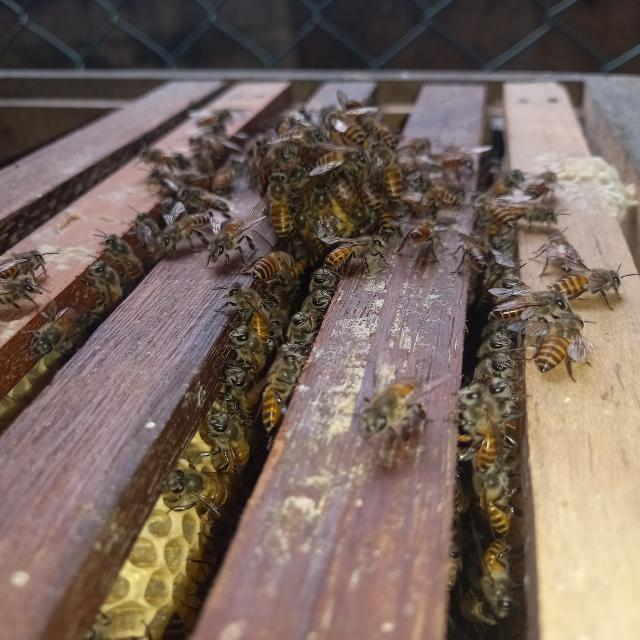honeybee: (532, 308, 593, 402), (472, 538, 528, 640), (363, 365, 434, 443), (195, 401, 248, 486), (154, 459, 220, 525), (457, 376, 504, 463), (472, 457, 523, 535), (552, 261, 634, 308), (146, 207, 217, 259), (258, 356, 304, 436), (226, 283, 278, 351), (97, 233, 153, 287), (326, 170, 376, 230), (198, 216, 256, 266), (29, 307, 84, 356), (78, 259, 124, 314), (238, 244, 300, 282), (228, 318, 266, 376), (398, 215, 452, 255), (410, 172, 470, 208), (538, 225, 590, 266), (465, 185, 516, 226), (0, 242, 53, 280), (288, 201, 326, 254), (0, 274, 47, 316), (263, 174, 296, 232), (332, 235, 391, 266), (176, 180, 229, 214), (348, 156, 381, 210), (317, 142, 376, 172), (372, 141, 406, 192), (326, 100, 365, 144), (477, 163, 524, 199), (522, 159, 564, 199), (183, 102, 256, 125), (481, 294, 557, 316), (425, 148, 475, 181), (510, 197, 570, 224), (251, 164, 314, 189), (453, 230, 487, 274), (136, 142, 196, 166), (357, 114, 402, 146), (391, 189, 437, 216), (212, 160, 240, 203), (480, 326, 519, 356), (290, 309, 316, 351), (190, 132, 225, 163), (221, 367, 257, 397), (492, 266, 530, 293), (280, 125, 331, 145), (258, 144, 303, 166), (375, 199, 399, 239), (308, 264, 341, 287), (339, 95, 375, 115), (312, 289, 336, 318), (489, 355, 519, 377)
